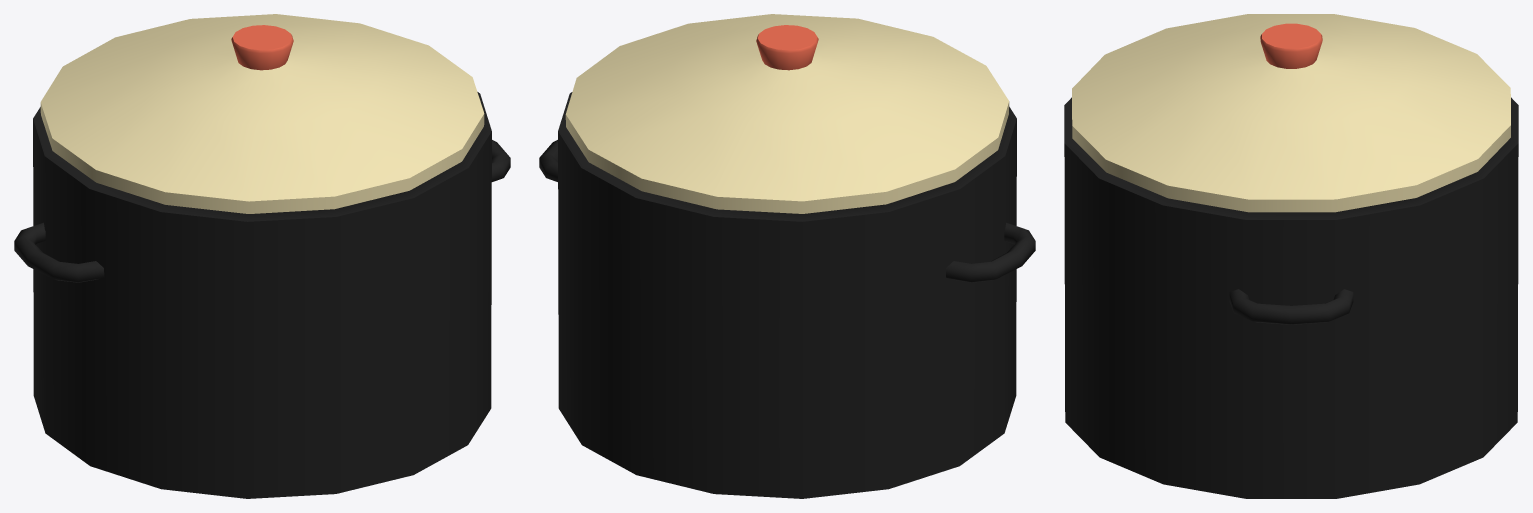
Rendered from LP_pot1.glb.
3 renders of one model, left to right at view 1: azimuth 30°, elevation 25°; view 2: azimuth 150°, elevation 25°; view 3: azimuth 270°, elevation 25°, orthographic.
Visible parts, largest first — view 1: LP_pot1.001, LP_pot1_lid.001; view 2: LP_pot1.001, LP_pot1_lid.001; view 3: LP_pot1.001, LP_pot1_lid.001.
Boxes of the visible parts, x1=… form: LP_pot1.001: x1=14, y1=92, x2=510, y2=498; LP_pot1_lid.001: x1=40, y1=14, x2=484, y2=213; LP_pot1.001: x1=539, y1=92, x2=1035, y2=498; LP_pot1_lid.001: x1=565, y1=14, x2=1009, y2=213; LP_pot1.001: x1=1064, y1=97, x2=1518, y2=498; LP_pot1_lid.001: x1=1072, y1=14, x2=1510, y2=212.
Size of the model in its own units: 0.4373 by 0.3247 by 0.364.
Materials: 1 (1 with a texture image).
